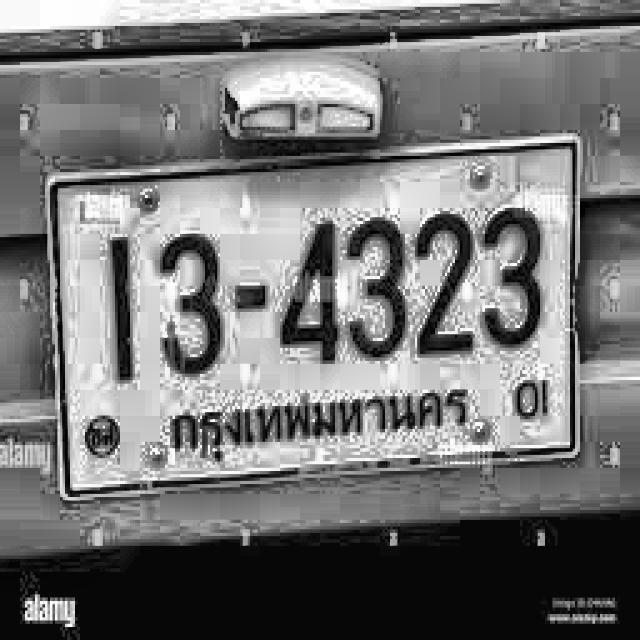license-plate: (25, 121, 609, 527)
